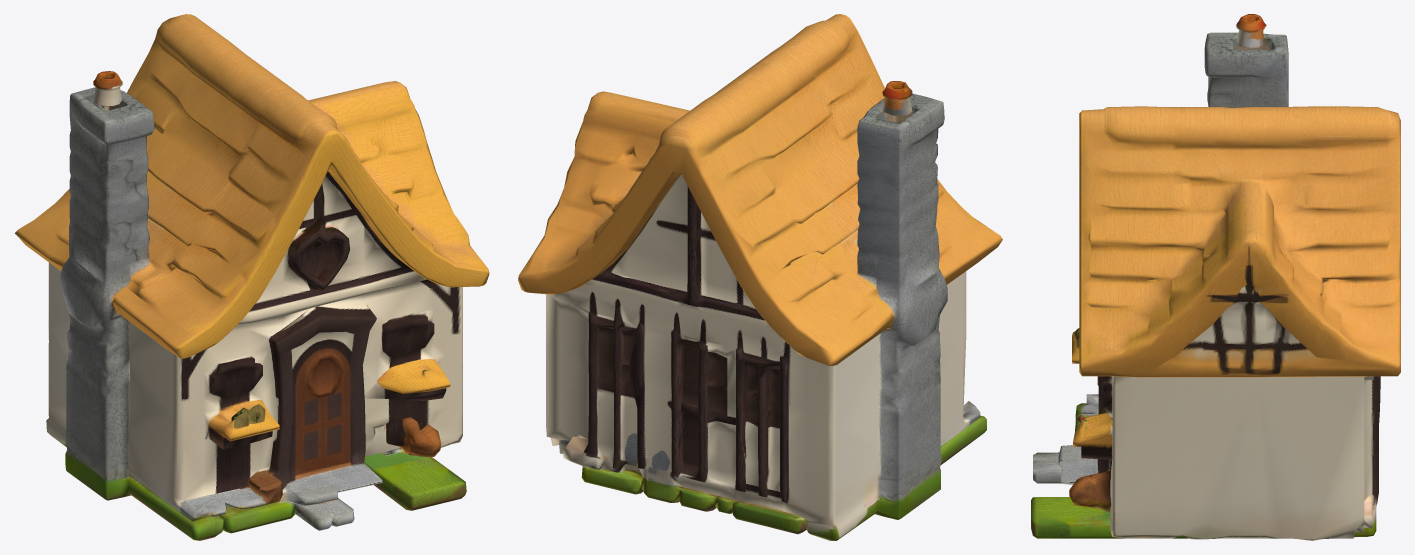
The model's file is building_cottage_v1.glb.
The picture shows the model from 3 angles, left to right: view 1: azimuth 30°, elevation 25°; view 2: azimuth 150°, elevation 25°; view 3: azimuth 270°, elevation 25°; orthographic projection. The views are drawn at different scales.
Size of the model in its own units: 1.61 by 1.91 by 1.59.
1 material, 1 textured.
